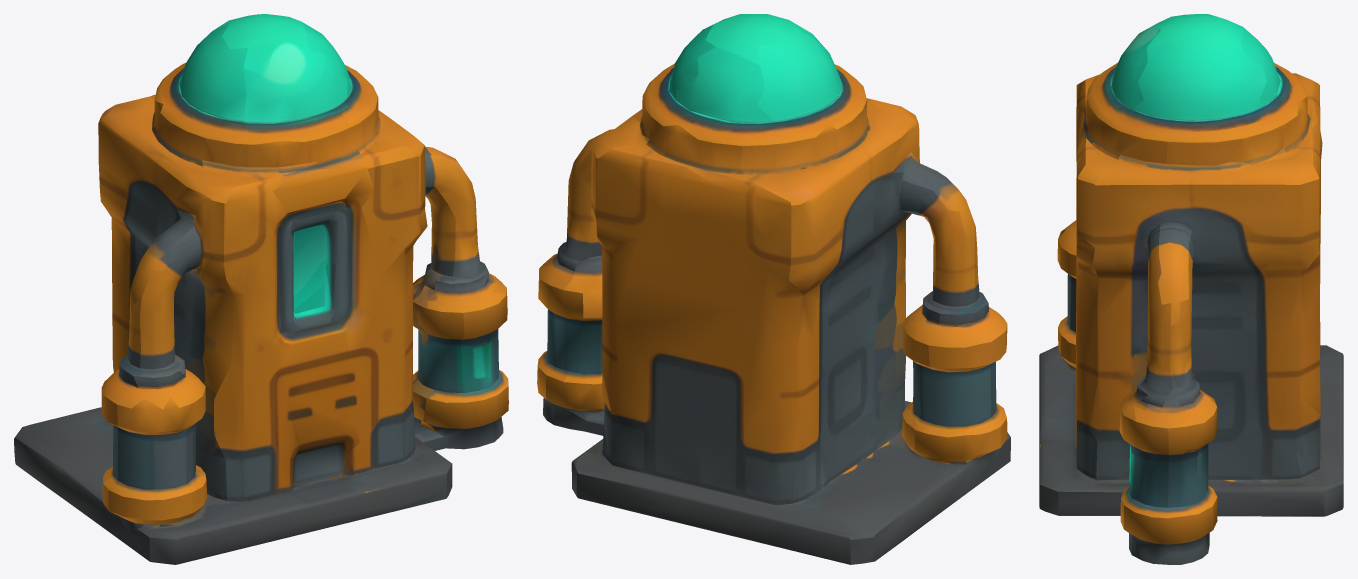
Rendered from Environment 2.3.fbx.
The picture shows the model from 3 angles, left to right: view 1: azimuth 30°, elevation 25°; view 2: azimuth 150°, elevation 25°; view 3: azimuth 270°, elevation 25°; orthographic projection.
Parts seen in each view (by area): view 1: tmpudp3yod2.ply; view 2: tmpudp3yod2.ply; view 3: tmpudp3yod2.ply.
Part boxes in pixels (left/top/right/bottom): tmpudp3yod2.ply: left=14, top=14, right=508, bottom=564; tmpudp3yod2.ply: left=537, top=14, right=1010, bottom=564; tmpudp3yod2.ply: left=1039, top=14, right=1343, bottom=564.
Size of the model in its own units: 199 by 199 by 125.
Materials: 1 (1 with a texture image).
